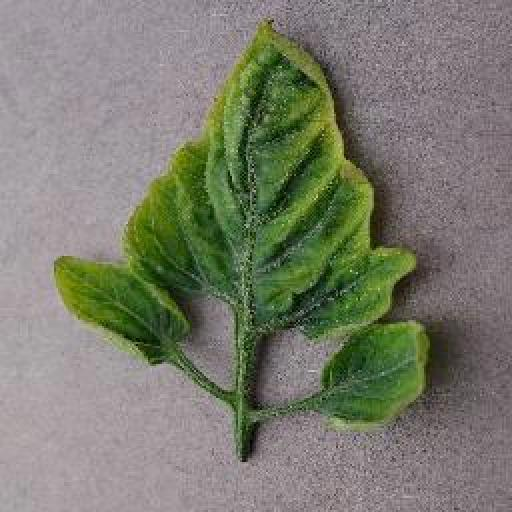disease_tomato: (124, 20, 416, 340), (51, 254, 197, 366), (310, 317, 430, 431)
